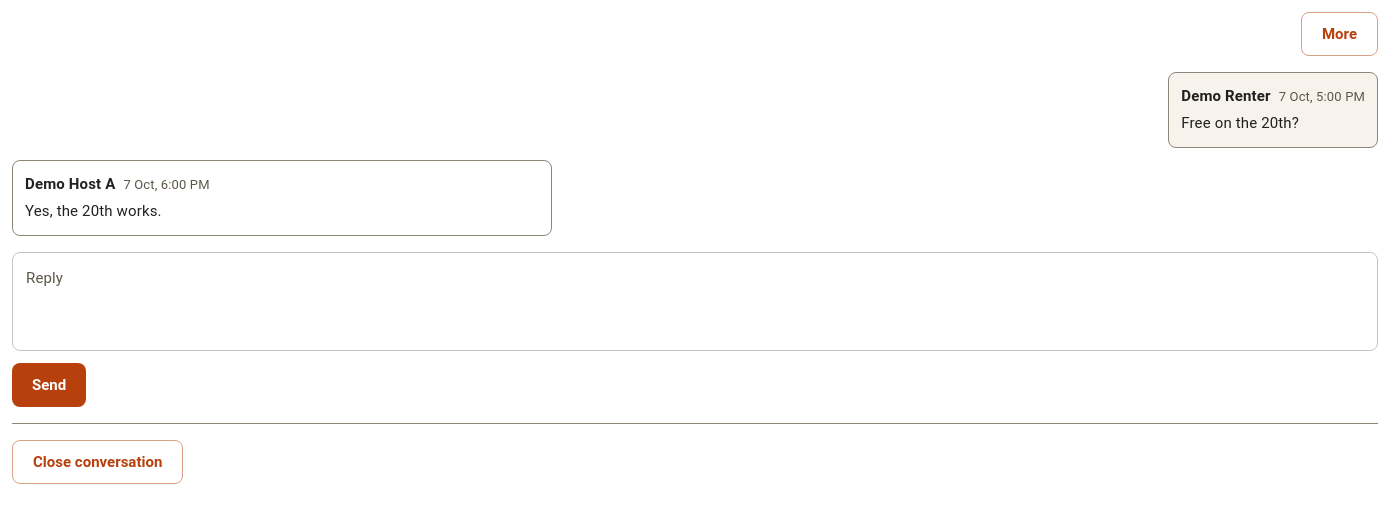
Test case: validates the reply on the client
Click the button "Send".
click(49, 385)  # box [12, 363, 86, 407]
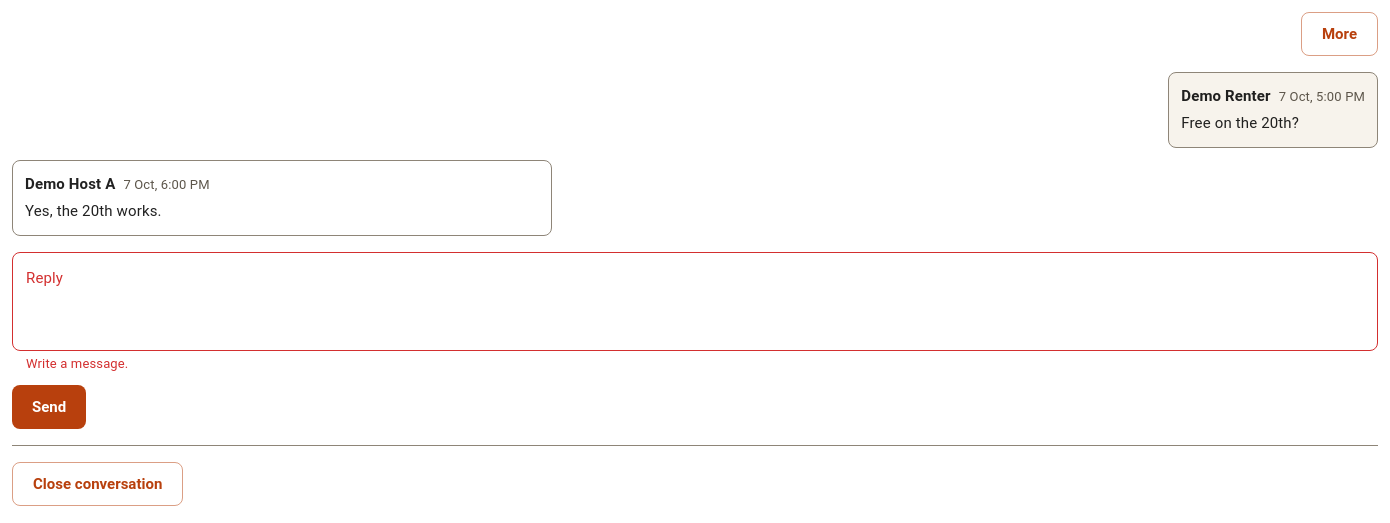
Now the text "Write a message." is shown, box [26, 356, 128, 371]
